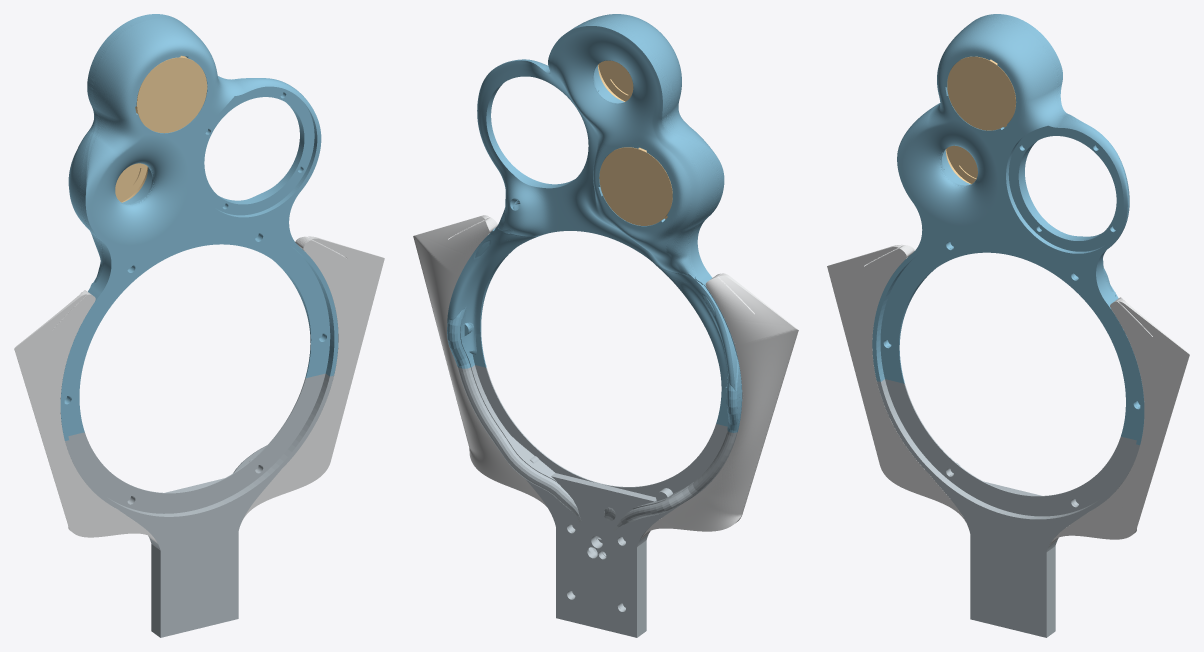
File: H2C_Dayton_ND25FN4_obiwan_tweeters_left_graded_assembly.glb
3 views of the same model, side by side, from view 1: azimuth 30°, elevation 25°; view 2: azimuth 150°, elevation 25°; view 3: azimuth 330°, elevation 25° (orthographic). The views are drawn at different scales.
Visible parts, largest first — view 1: obiwan_nd25fn4_tweeters_left_top, obiwan_lm_keyed_bottom_no_floor_stand, obiwan_nd25fn4_tweeters_left_wing_graded_right, obiwan_nd25fn4_tweeters_left_wing_graded_left, obiwan_nd25fn4_tweeters_left_cap_rear, obiwan_nd25fn4_tweeters_left_cap_front; view 2: obiwan_nd25fn4_tweeters_left_top, obiwan_lm_keyed_bottom_no_floor_stand, obiwan_nd25fn4_tweeters_left_wing_graded_left, obiwan_nd25fn4_tweeters_left_wing_graded_right, obiwan_nd25fn4_tweeters_left_cap_front, obiwan_nd25fn4_tweeters_left_cap_rear; view 3: obiwan_nd25fn4_tweeters_left_top, obiwan_lm_keyed_bottom_no_floor_stand, obiwan_nd25fn4_tweeters_left_wing_graded_left, obiwan_nd25fn4_tweeters_left_wing_graded_right, obiwan_nd25fn4_tweeters_left_cap_rear, obiwan_nd25fn4_tweeters_left_cap_front.
Part boxes in pixels (x1,y1,x2,y2): obiwan_nd25fn4_tweeters_left_top: [60, 14, 338, 440]; obiwan_lm_keyed_bottom_no_floor_stand: [65, 373, 333, 637]; obiwan_nd25fn4_tweeters_left_wing_graded_right: [243, 236, 384, 519]; obiwan_nd25fn4_tweeters_left_wing_graded_left: [14, 290, 157, 543]; obiwan_nd25fn4_tweeters_left_cap_rear: [135, 55, 207, 133]; obiwan_nd25fn4_tweeters_left_cap_front: [115, 163, 148, 202]; obiwan_nd25fn4_tweeters_left_top: [447, 14, 742, 432]; obiwan_lm_keyed_bottom_no_floor_stand: [457, 365, 737, 637]; obiwan_nd25fn4_tweeters_left_wing_graded_left: [641, 273, 798, 538]; obiwan_nd25fn4_tweeters_left_wing_graded_right: [413, 215, 546, 506]; obiwan_nd25fn4_tweeters_left_cap_front: [599, 147, 672, 225]; obiwan_nd25fn4_tweeters_left_cap_rear: [598, 60, 633, 101]; obiwan_nd25fn4_tweeters_left_top: [872, 14, 1144, 445]; obiwan_lm_keyed_bottom_no_floor_stand: [877, 379, 1139, 637]; obiwan_nd25fn4_tweeters_left_wing_graded_left: [827, 244, 966, 523]; obiwan_nd25fn4_tweeters_left_wing_graded_right: [1049, 297, 1189, 545]; obiwan_nd25fn4_tweeters_left_cap_rear: [947, 56, 1016, 130]; obiwan_nd25fn4_tweeters_left_cap_front: [945, 145, 977, 184].
Bounding box in the file's own units: 0.304 × 0.469 × 0.042.
